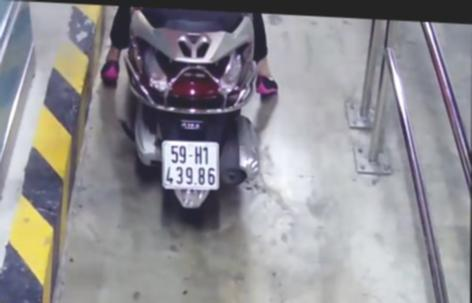License_Plate: (156, 137, 225, 197)
